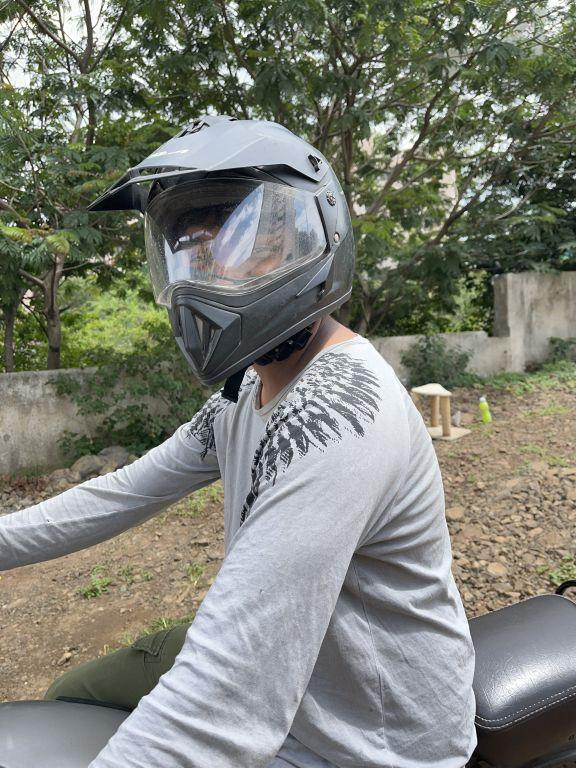helmet: (89, 97, 374, 419)
